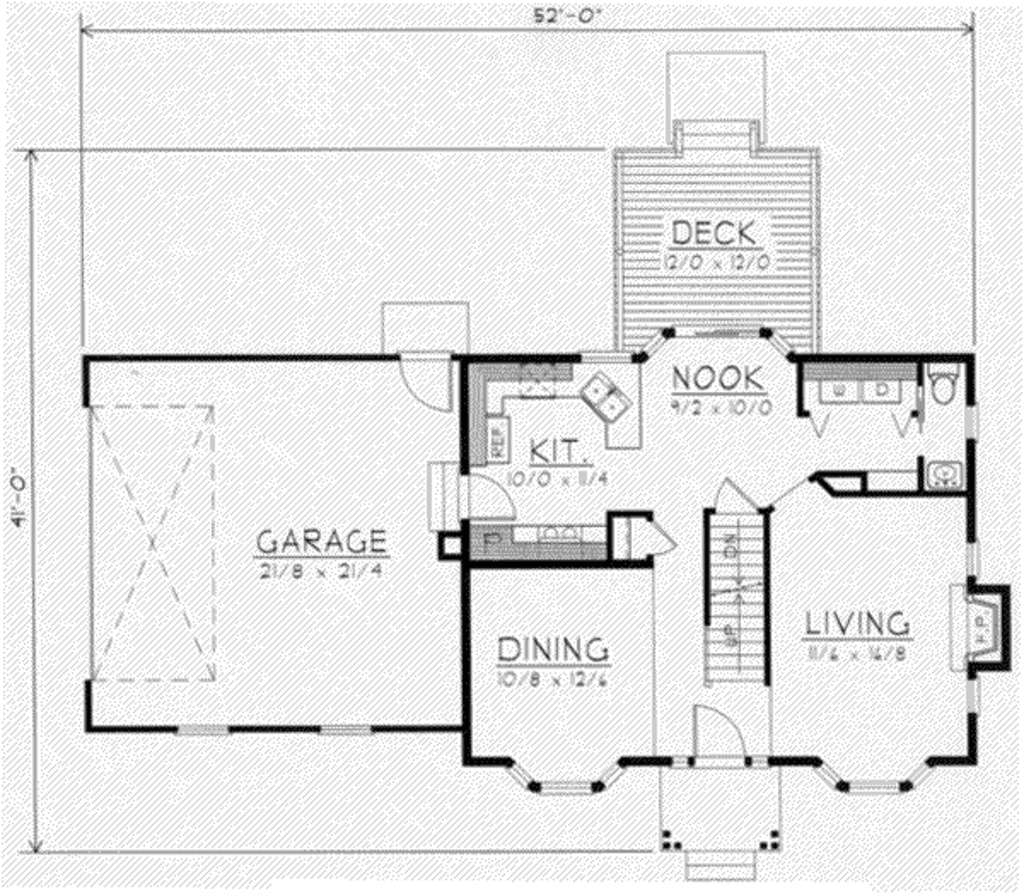door: (685, 703, 752, 769), (397, 349, 455, 417), (456, 474, 519, 524), (709, 471, 764, 517), (644, 519, 683, 560)
large_sink: (922, 357, 965, 411)
small_sink: (921, 457, 969, 494)
stairs: (697, 509, 773, 688)
twin_sink: (578, 371, 636, 427)
window: (641, 321, 797, 363), (808, 757, 937, 798), (508, 760, 624, 799), (579, 348, 637, 367), (173, 720, 230, 736), (317, 723, 374, 738), (963, 680, 982, 720)
